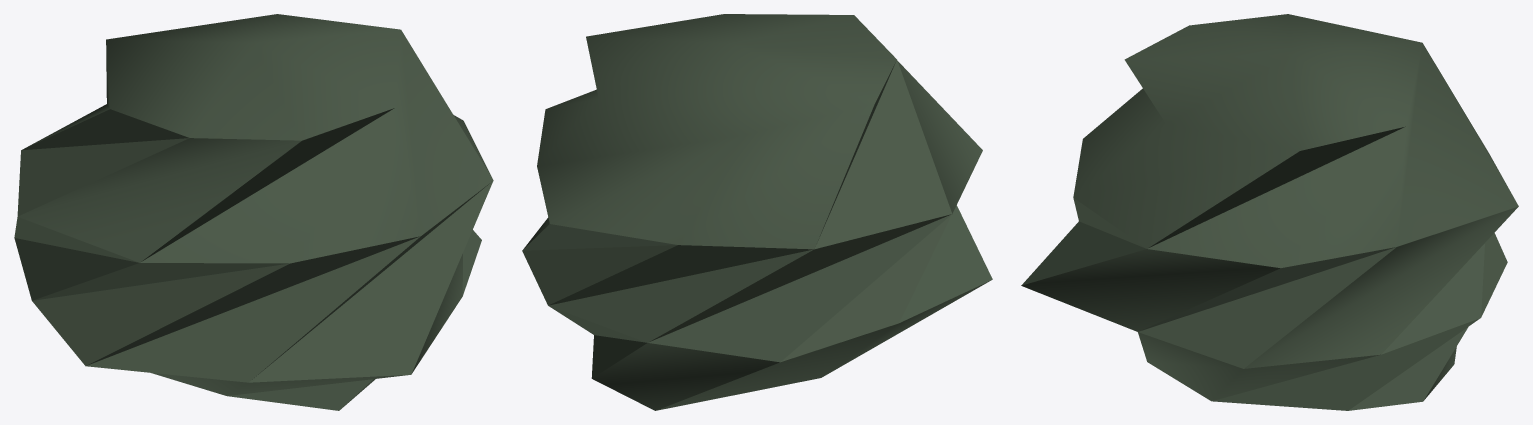
The model's file is bush.fbx.
The picture shows the model from 3 angles, left to right: view 1: azimuth 30°, elevation 25°; view 2: azimuth 150°, elevation 25°; view 3: azimuth 270°, elevation 25°; orthographic projection. The views are drawn at different scales.
Parts seen in each view (by area): view 1: tree_5; view 2: tree_5; view 3: tree_5.
Part boxes in pixels (x1,y1,x2,y2): tree_5: [14, 14, 493, 410]; tree_5: [522, 14, 992, 410]; tree_5: [1021, 14, 1518, 410].
Size of the model in its own units: 408 by 296 by 419.
1 material, 1 textured.
